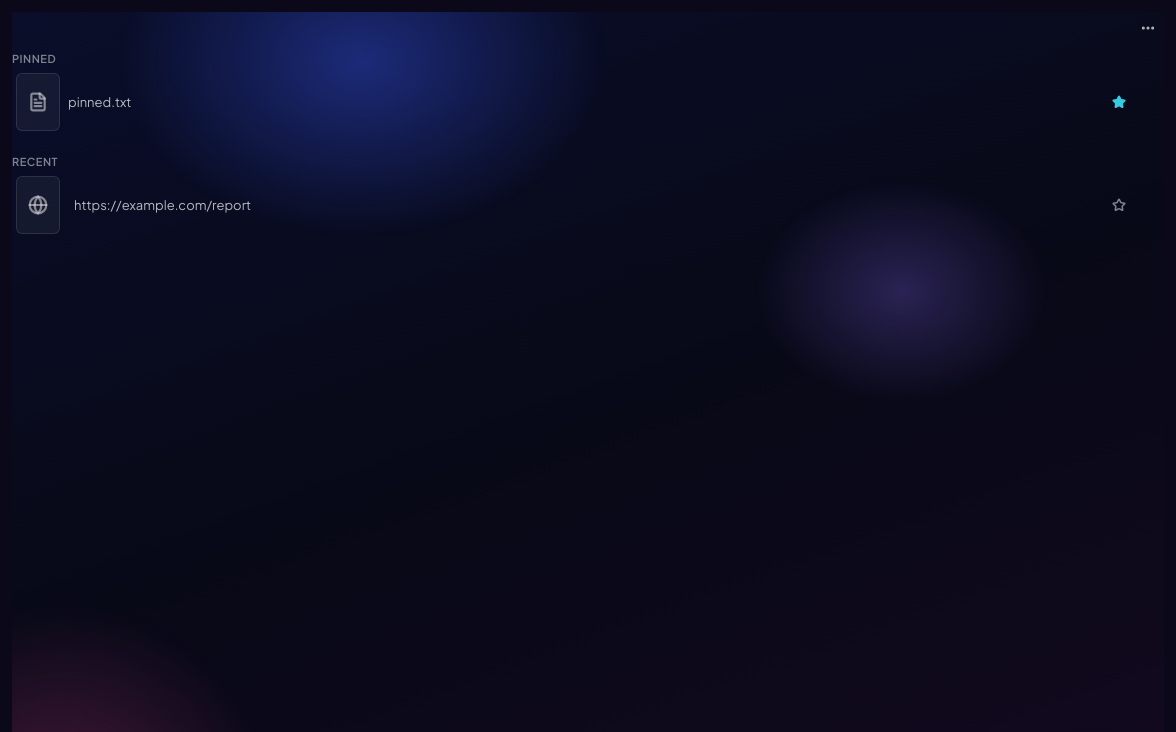
Test: FilesWidget › renders pinned and recent sections and hides dotfiles by default
The width and height of the screenshot is (1176, 732).
Check: the element named "Pinned files" is shown, box [12,52,1164,135]
Check: the element named "Recent files" is shown, box [12,155,1164,238]
Click the button named "Files actions" at (1148,28), box [1132,12,1164,44]
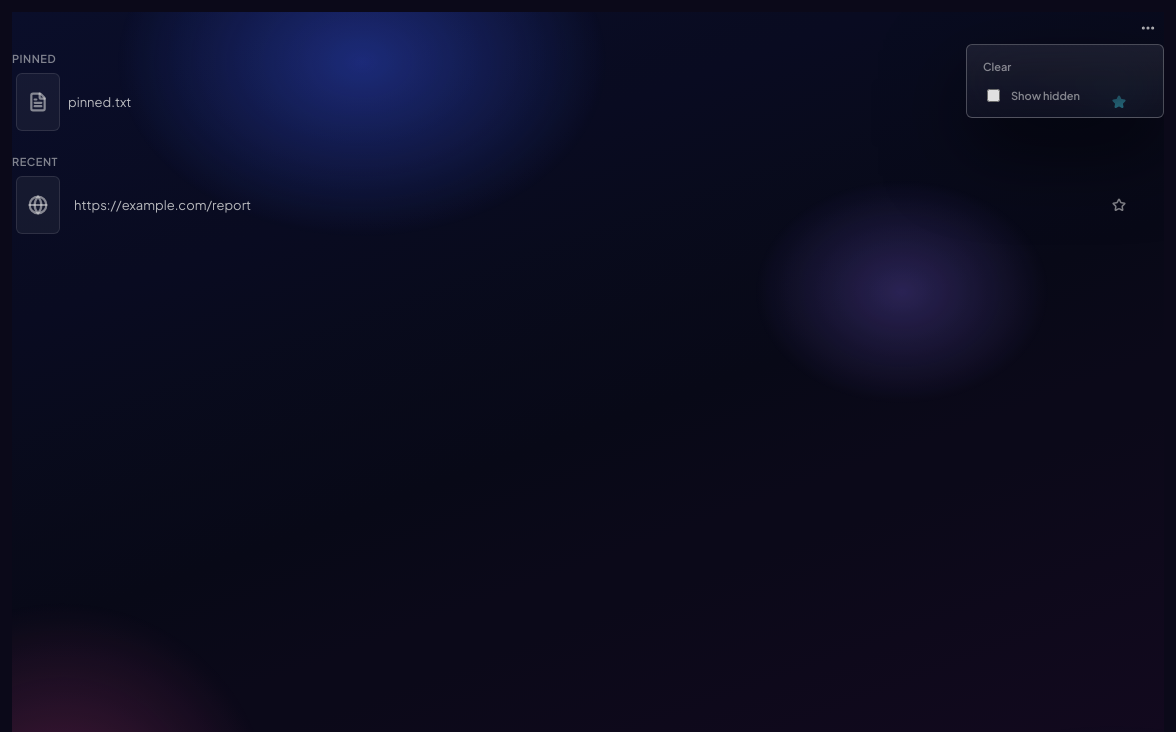
Click the checkbox labelled "Show hidden" at (994,96), box [987,89,1000,102]
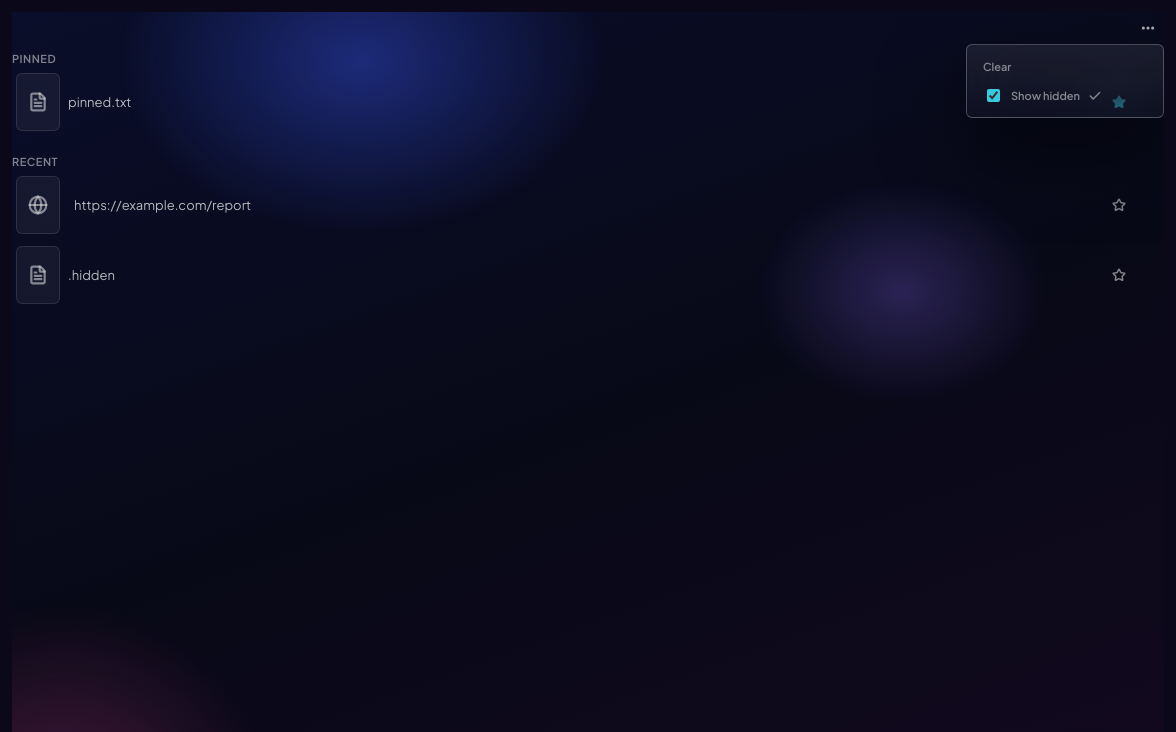
Check: the text ".hidden" is shown, box [68,267,115,283]
